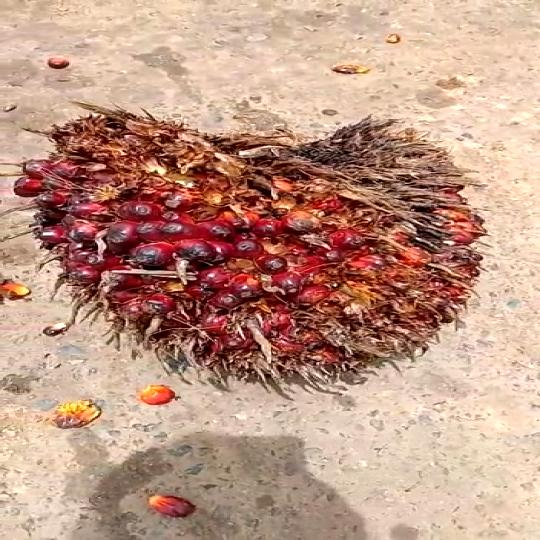masak: (44, 104, 497, 398)
